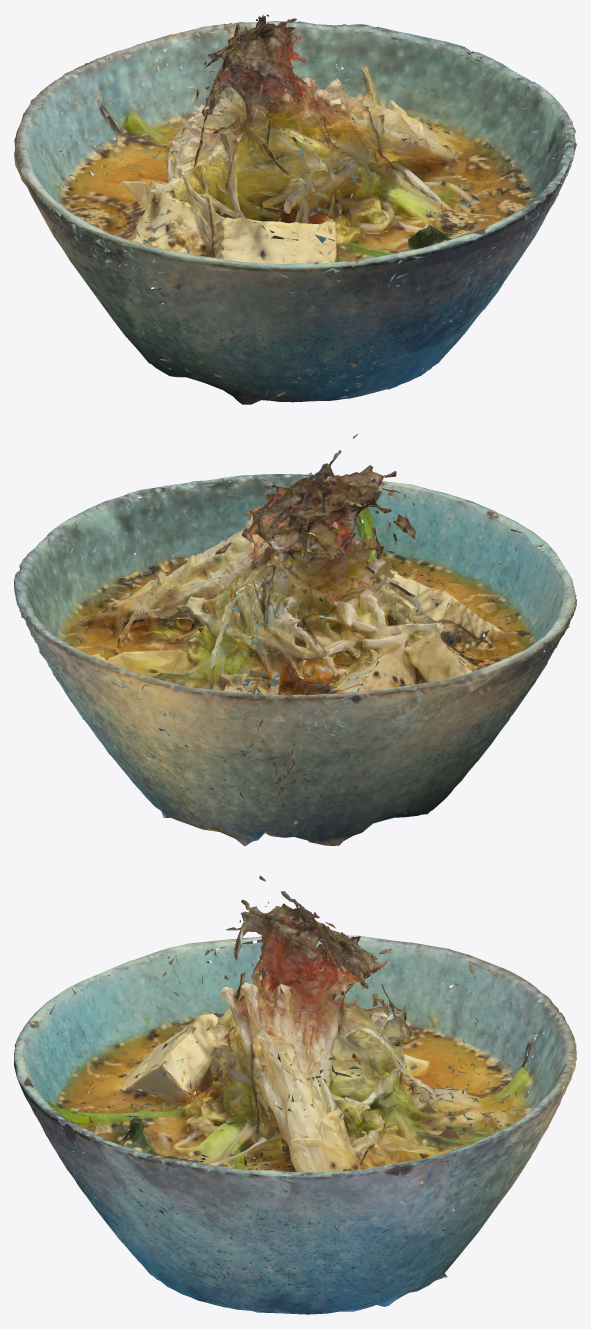
The model's file is bowl-shoyu.glb.
The picture shows the model from 3 angles, top to bottom: view 1: azimuth 30°, elevation 25°; view 2: azimuth 150°, elevation 25°; view 3: azimuth 270°, elevation 25°; orthographic projection. The views are drawn at different scales.
Visible parts, largest first — view 1: model_tex_u1_v1_0 (×7); view 2: model_tex_u1_v1_0 (×7); view 3: model_tex_u1_v1_0 (×7).
Boxes of the visible parts, bbox=[...] form: model_tex_u1_v1_0 (×7): bbox=[14, 14, 576, 404]; model_tex_u1_v1_0 (×7): bbox=[14, 433, 576, 846]; model_tex_u1_v1_0 (×7): bbox=[14, 875, 576, 1314].
Bounding box in the file's own units: 2.01 × 1.36 × 1.97.
1 material, 1 textured.
